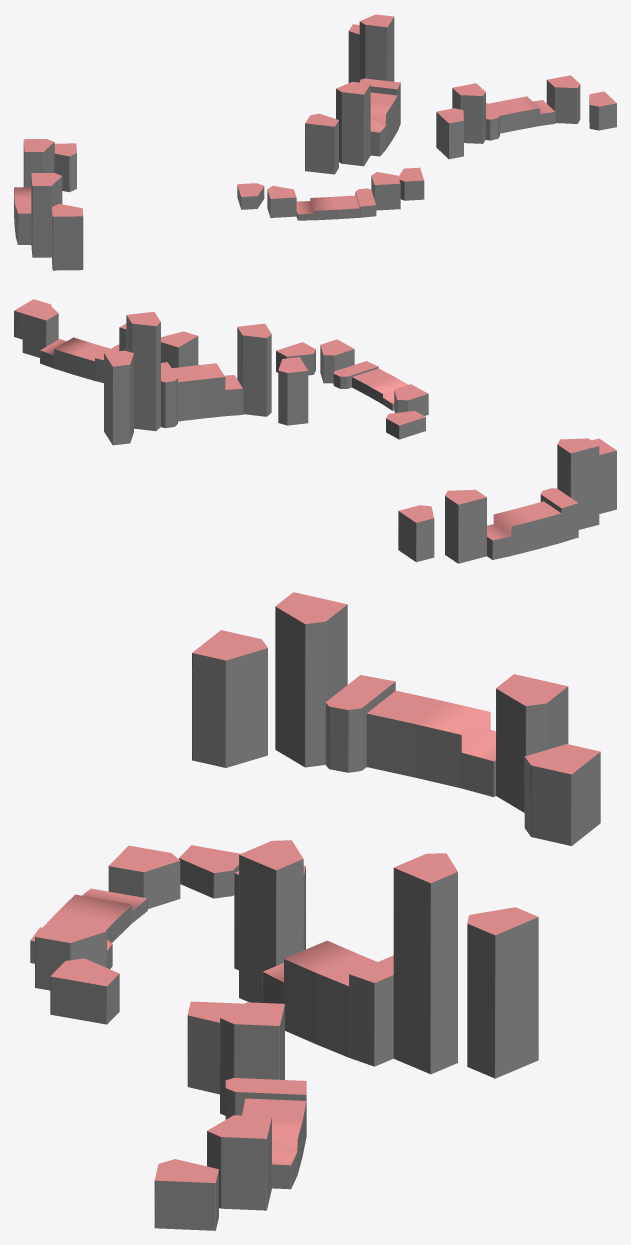
Rendered from OOBBuildings_Combined_04.gltf.
The picture shows the model from 3 angles, top to bottom: view 1: azimuth 30°, elevation 25°; view 2: azimuth 150°, elevation 25°; view 3: azimuth 270°, elevation 25°; orthographic projection. The views are drawn at different scales.
Parts seen in each view (by area): view 1: OOBBuildings_Combined_04; view 2: OOBBuildings_Combined_04; view 3: OOBBuildings_Combined_04.
Part boxes in pixels (x1,y1,x2,y2): OOBBuildings_Combined_04: [14, 14, 616, 270]; OOBBuildings_Combined_04: [14, 299, 616, 563]; OOBBuildings_Combined_04: [30, 592, 600, 1230].
Size of the model in its own units: 1487 by 307 by 665.
